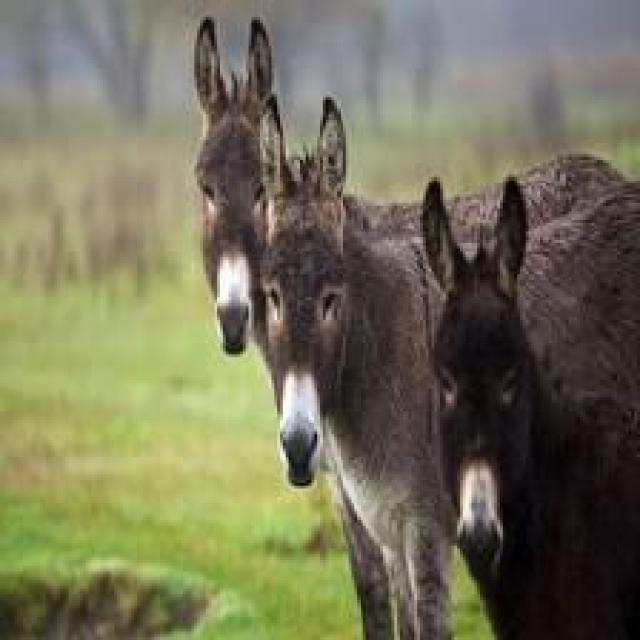Donkey: (254, 92, 637, 637), (192, 12, 394, 637), (417, 169, 637, 637)
